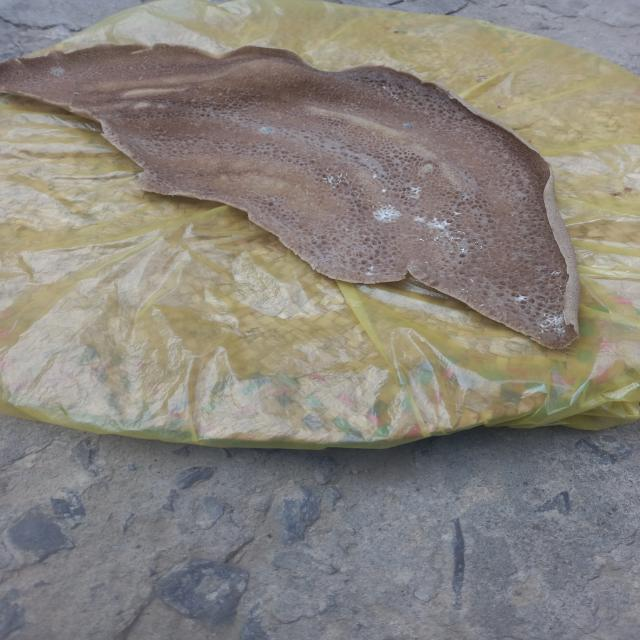injera_mold: (412, 214, 462, 239), (537, 309, 567, 335), (370, 203, 403, 224), (323, 172, 349, 190), (514, 291, 530, 305), (49, 65, 66, 77), (409, 183, 424, 196), (548, 268, 566, 278), (363, 262, 375, 277), (260, 124, 276, 134), (402, 120, 417, 129), (455, 246, 469, 255), (460, 192, 473, 201), (381, 187, 388, 194), (372, 173, 379, 178)
